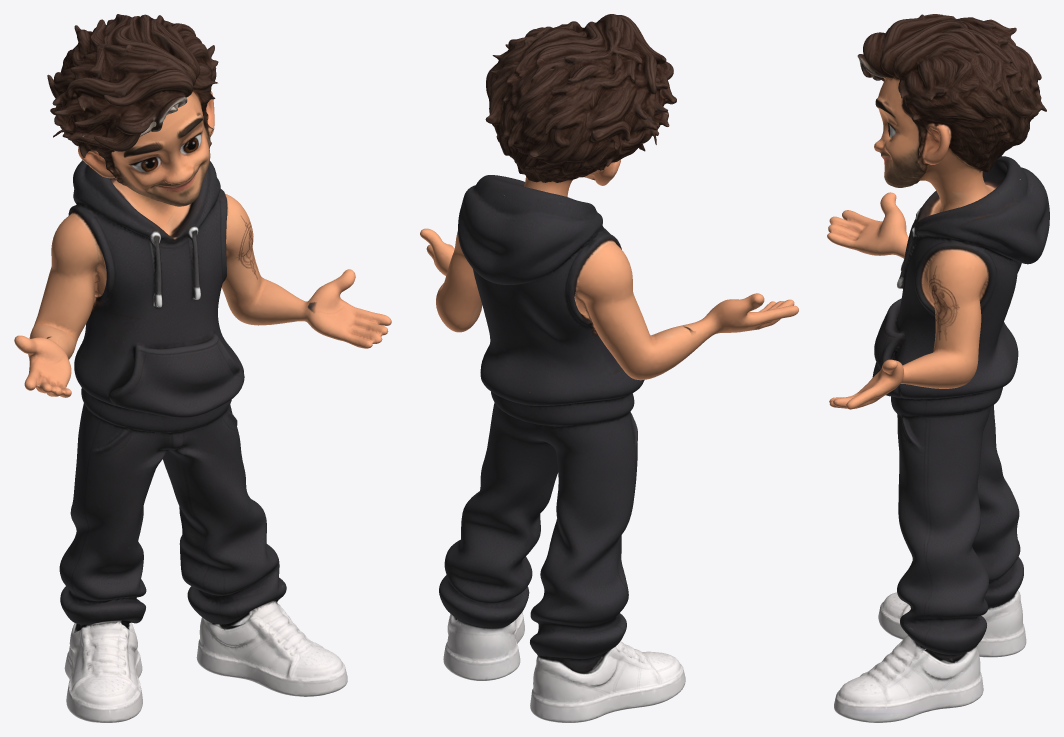
The model's file is om-cartoon.glb.
3 renders of one model, left to right at view 1: azimuth 30°, elevation 25°; view 2: azimuth 150°, elevation 25°; view 3: azimuth 270°, elevation 25°, orthographic. The views are drawn at different scales.
Bounding box in the file's own units: 1.1 × 1.9 × 0.6097.
1 material, 1 textured.
